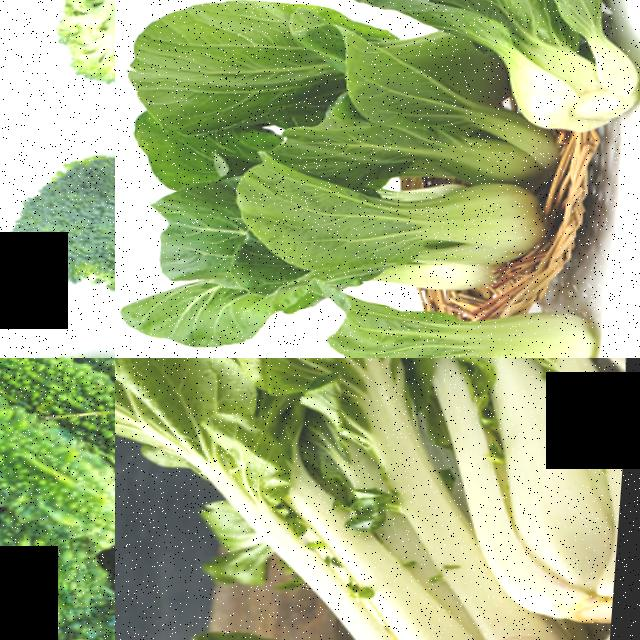bitter gourd: (0, 395, 58, 481)
bok choy: (230, 358, 476, 640), (453, 358, 640, 611), (246, 168, 562, 288), (277, 32, 495, 169), (243, 290, 638, 358), (501, 0, 640, 121)
broccoli: (0, 95, 115, 304), (15, 0, 115, 104)
